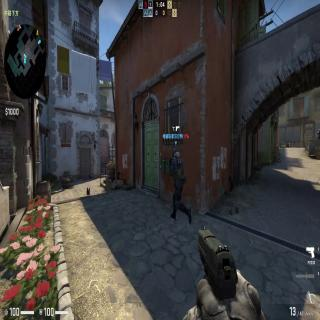CT-Body: (168, 148, 192, 225)
